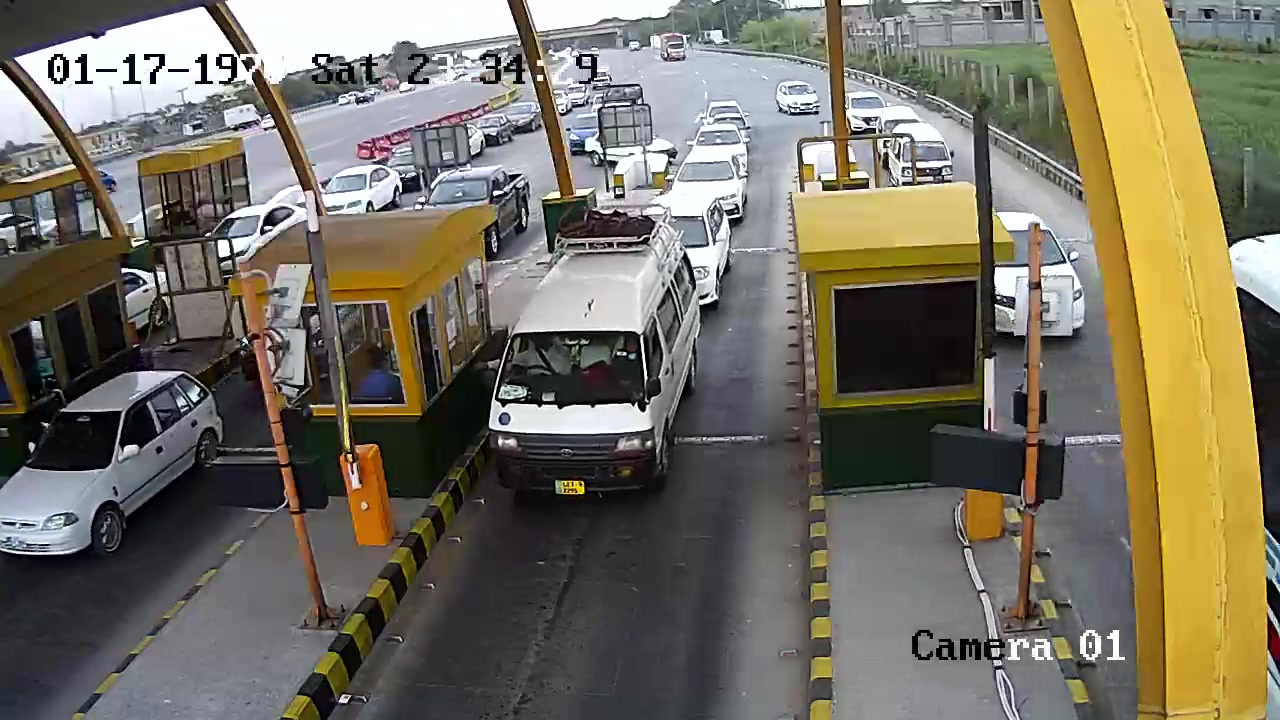F2: (497, 200, 693, 508)
